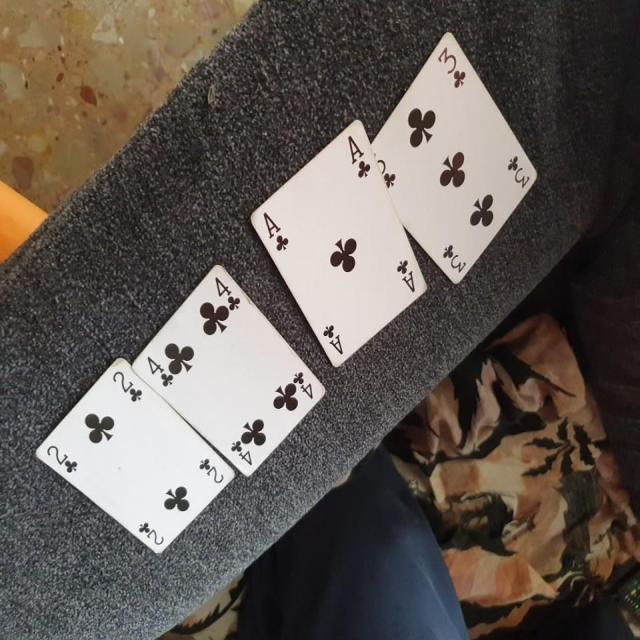2 Trefoils: (34, 357, 234, 554)
3 Trefoils: (370, 31, 539, 284)
4 Trefoils: (130, 262, 326, 478)
A Trefoils: (248, 116, 428, 369)
